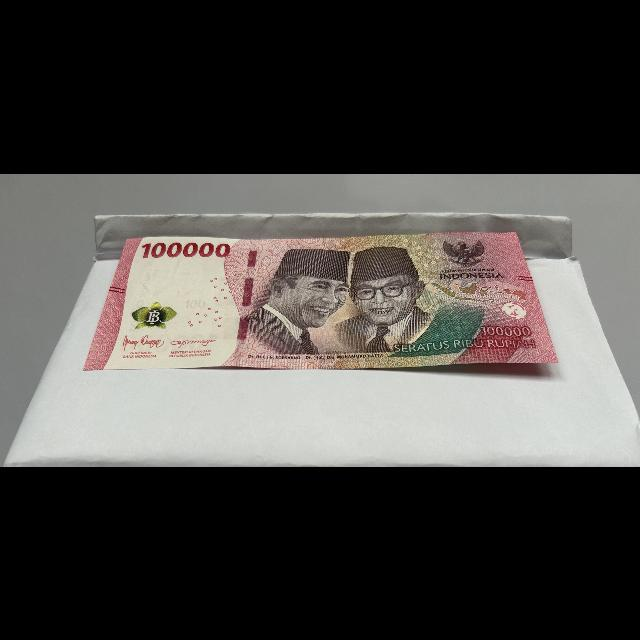Asli-100k: (79, 228, 563, 372)
Tinta-Asli-100k: (124, 299, 182, 331)
